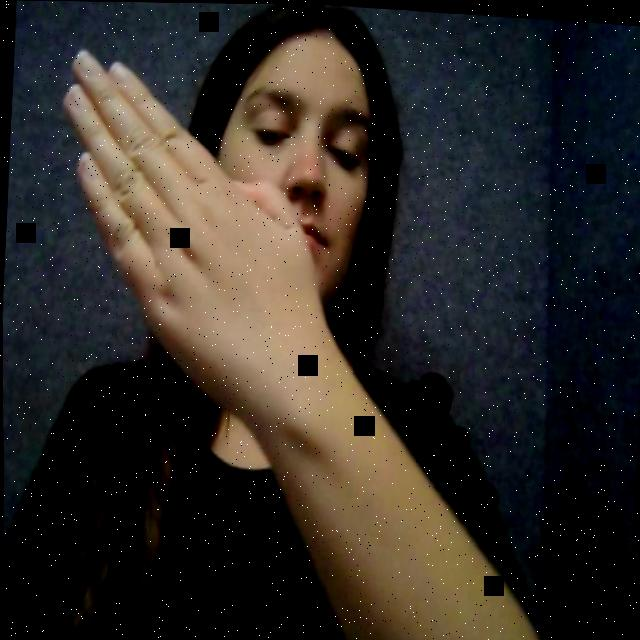Paper: (26, 42, 355, 412)
